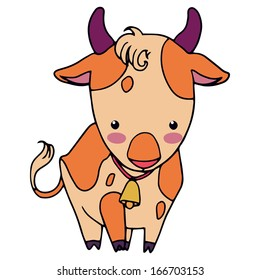animal: (7, 6, 256, 256)
